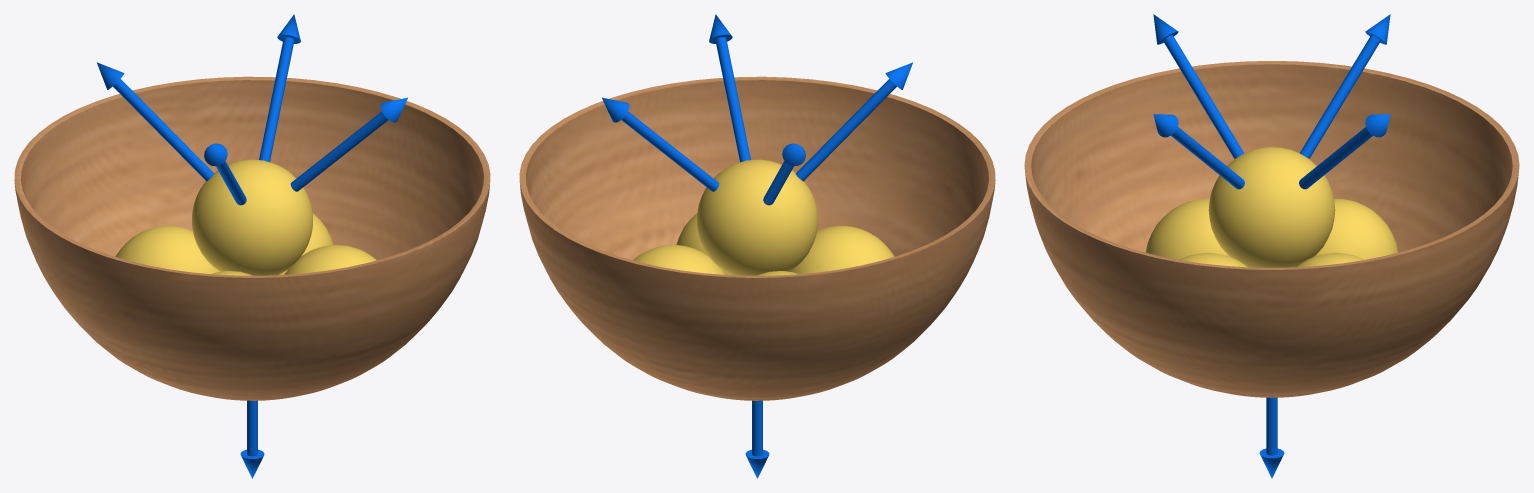
Rendered from xiaoqiu1.gltf.
3 views of the same model, side by side, from view 1: azimuth 30°, elevation 25°; view 2: azimuth 150°, elevation 25°; view 3: azimuth 270°, elevation 25° (orthographic). The views are drawn at different scales.
Visible parts, largest first — view 1: Line002; view 2: Line002; view 3: Line002.
Boxes of the visible parts, x1,y1,x2,y2 form: Line002: (14,14,490,478); Line002: (519,14,995,478); Line002: (1024,14,1519,478).
Bounding box in the file's own units: 72.83 × 67.33 × 72.83.
Materials: 2 (2 with a texture image).
